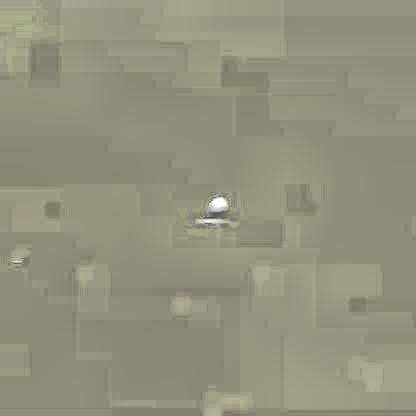golfball: (206, 195, 224, 213)
